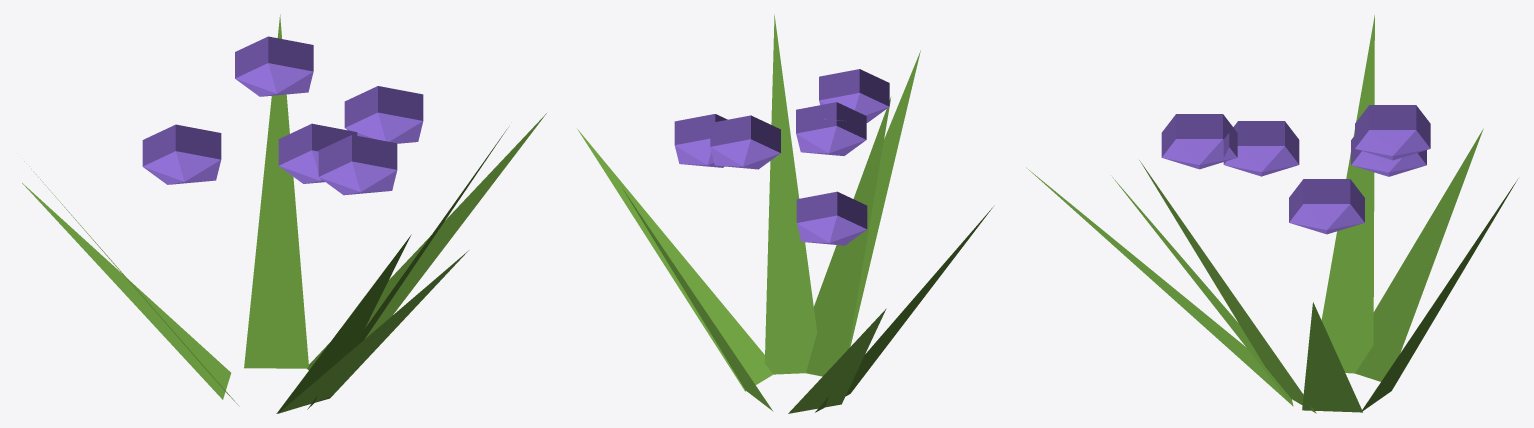
3 renders of one model, left to right at view 1: azimuth 30°, elevation 25°; view 2: azimuth 150°, elevation 25°; view 3: azimuth 270°, elevation 25°, orthographic. The views are drawn at different scales.
Parts seen in each view (by area): view 1: flowers-violet; view 2: flowers-violet; view 3: flowers-violet.
Part boxes in pixels (x1,y1,x2,y2): flowers-violet: [22, 14, 546, 413]; flowers-violet: [577, 14, 994, 413]; flowers-violet: [1026, 15, 1518, 413].
Bounding box in the file's own units: 0.7098 × 0.4319 × 0.6458.
